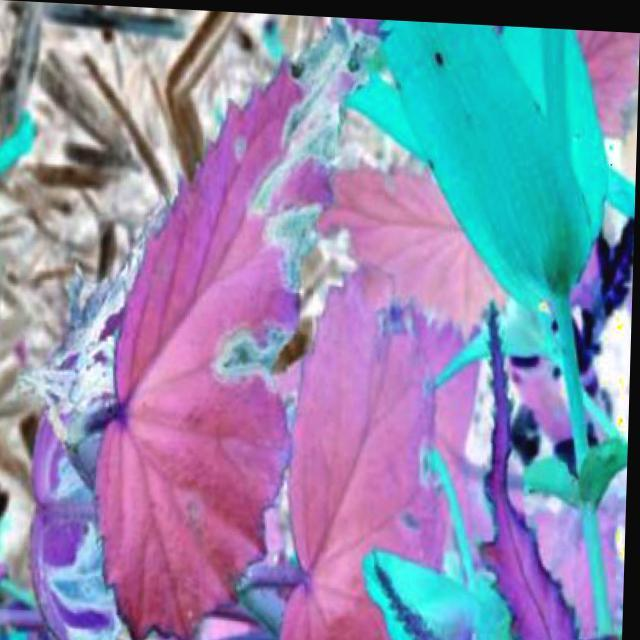Tomato late blight leaf: (81, 20, 359, 631)
